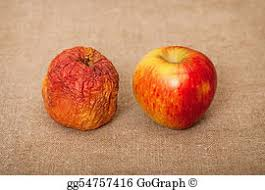apple: (135, 48, 213, 126)
damaged_apple: (41, 48, 123, 134)
